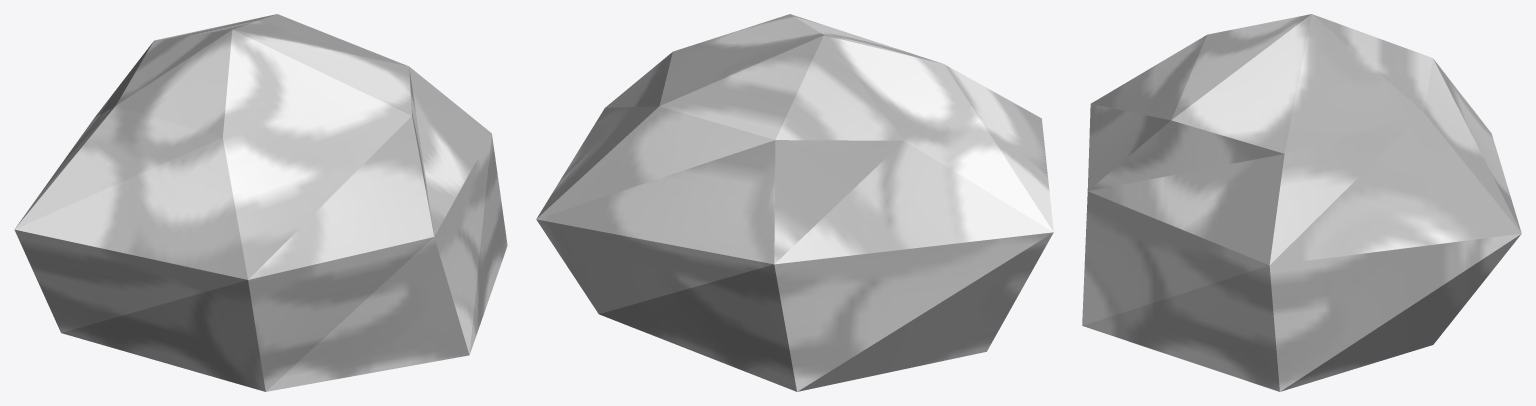
File: potato_1.obj
3 views of the same model, side by side, from view 1: azimuth 30°, elevation 25°; view 2: azimuth 150°, elevation 25°; view 3: azimuth 270°, elevation 25° (orthographic). The views are drawn at different scales.
Parts seen in each view (by area): view 1: potato_1; view 2: potato_1; view 3: potato_1.
Part boxes in pixels (x1,y1,x2,y2): potato_1: [14, 14, 507, 391]; potato_1: [536, 14, 1053, 391]; potato_1: [1082, 14, 1521, 391].
Bounding box in the file's own units: 0.5653 × 0.3 × 0.4658.
